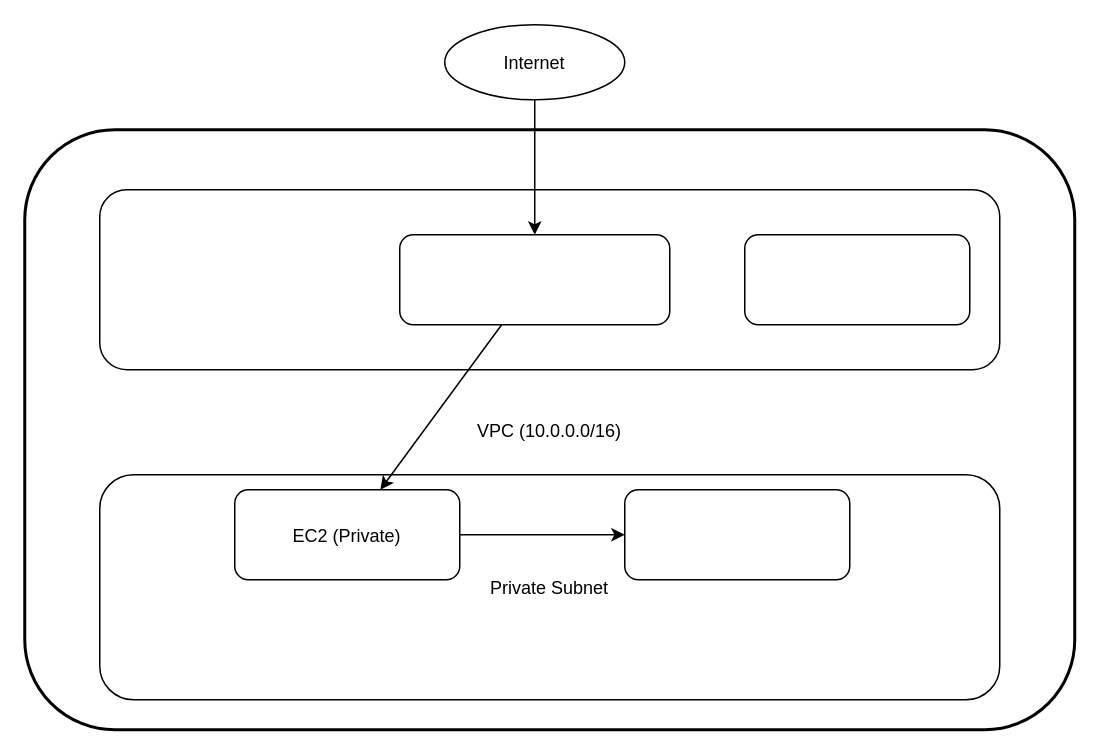
This 1100x755 diagram has some shape labels left out. The shapes that lost their labels are listed below. From the top down, each one's centre as x and y in pixels, then its label:
(534,279): Application Load Balancer
(856,279): NAT Gateway
(736,534): RDS (Private)
